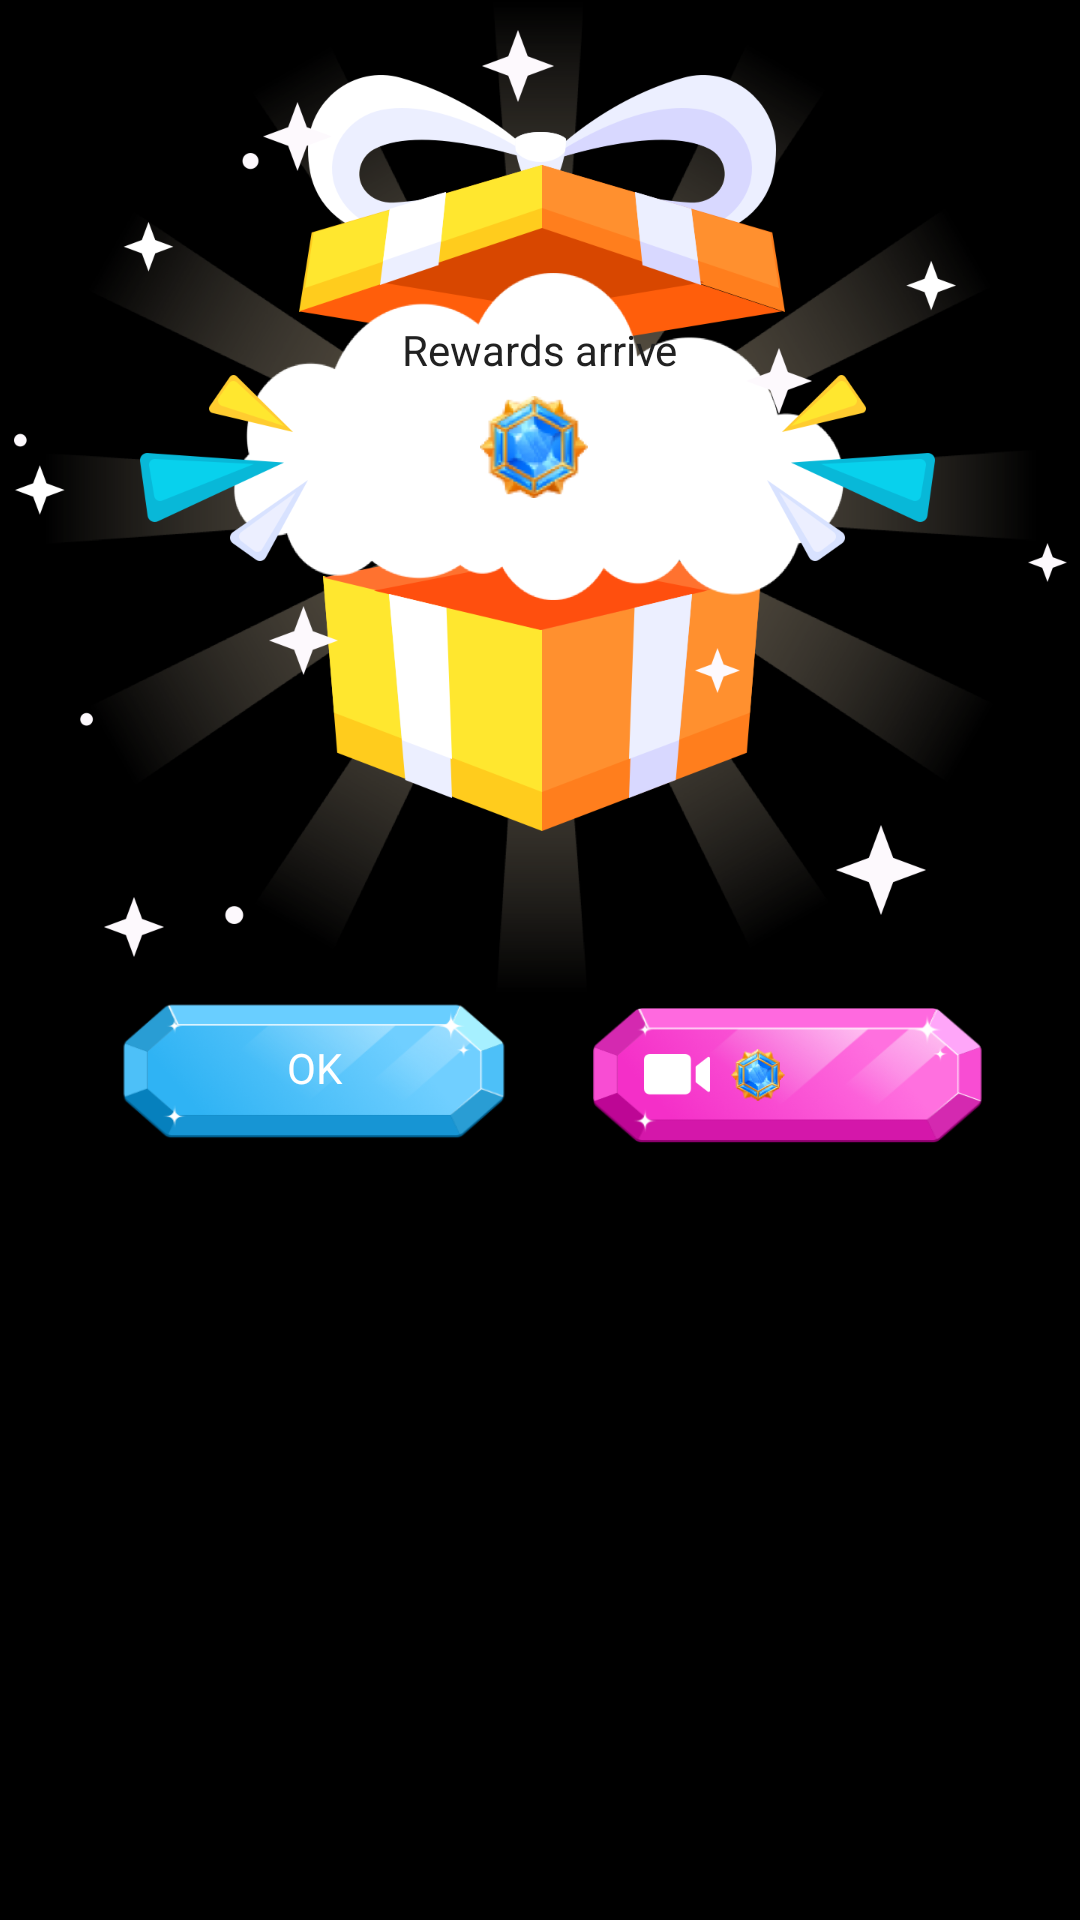

Named icons in this screenshot (1080w x 1920h) and their bounding boxes, (x1=x1, y1=y1, x2=x2, y2=y2):
diamond: (x1=480, y1=396, x2=588, y2=498), (x1=731, y1=1048, x2=785, y2=1101)
task video: (x1=644, y1=1054, x2=710, y2=1095)
